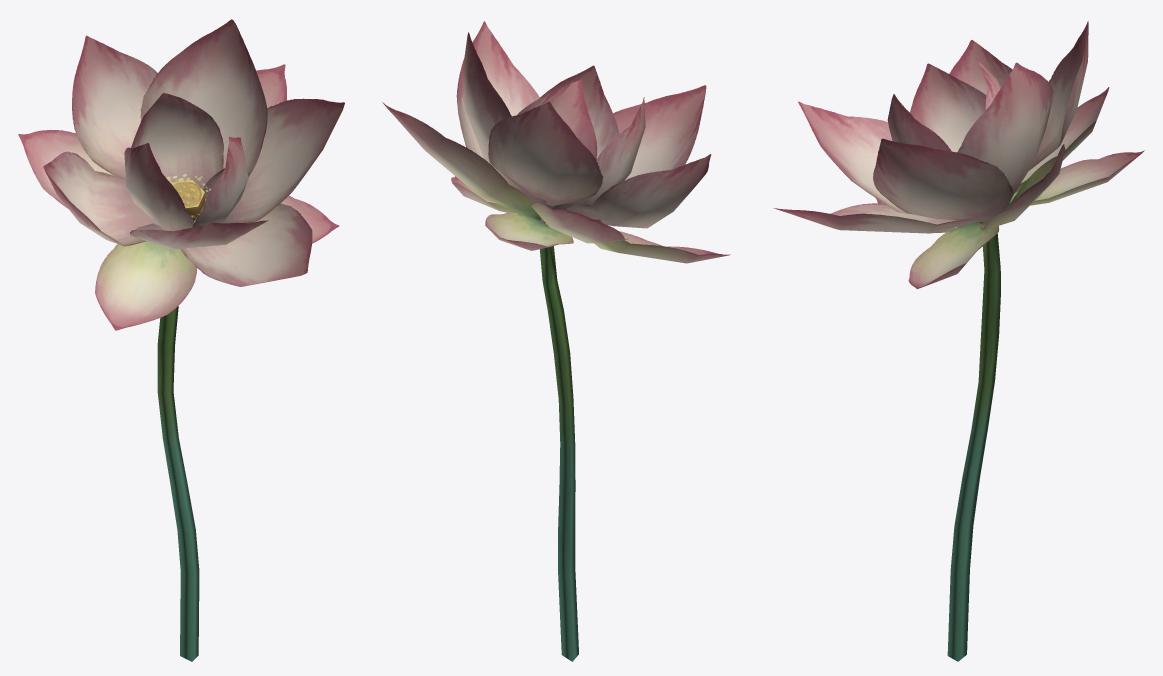
File: Homeworld_General_Common_Thing_Prop_Irodori_MainFlower_04_Vo.fbx
The picture shows the model from 3 angles, left to right: view 1: azimuth 30°, elevation 25°; view 2: azimuth 150°, elevation 25°; view 3: azimuth 270°, elevation 25°; orthographic projection. The views are drawn at different scales.
Parts seen in each view (by area): view 1: Homeworld_General_Common_Thing_Prop_Irodori_MainFlower_04_Vo; view 2: Homeworld_General_Common_Thing_Prop_Irodori_MainFlower_04_Vo; view 3: Homeworld_General_Common_Thing_Prop_Irodori_MainFlower_04_Vo.
Part boxes in pixels (bbox=[...]): Homeworld_General_Common_Thing_Prop_Irodori_MainFlower_04_Vo: bbox=[18, 19, 344, 661]; Homeworld_General_Common_Thing_Prop_Irodori_MainFlower_04_Vo: bbox=[382, 21, 730, 661]; Homeworld_General_Common_Thing_Prop_Irodori_MainFlower_04_Vo: bbox=[773, 21, 1144, 661].
Bounding box in the file's own units: 0.1777 × 0.3612 × 0.1972.
Materials: 1 (1 with a texture image).
